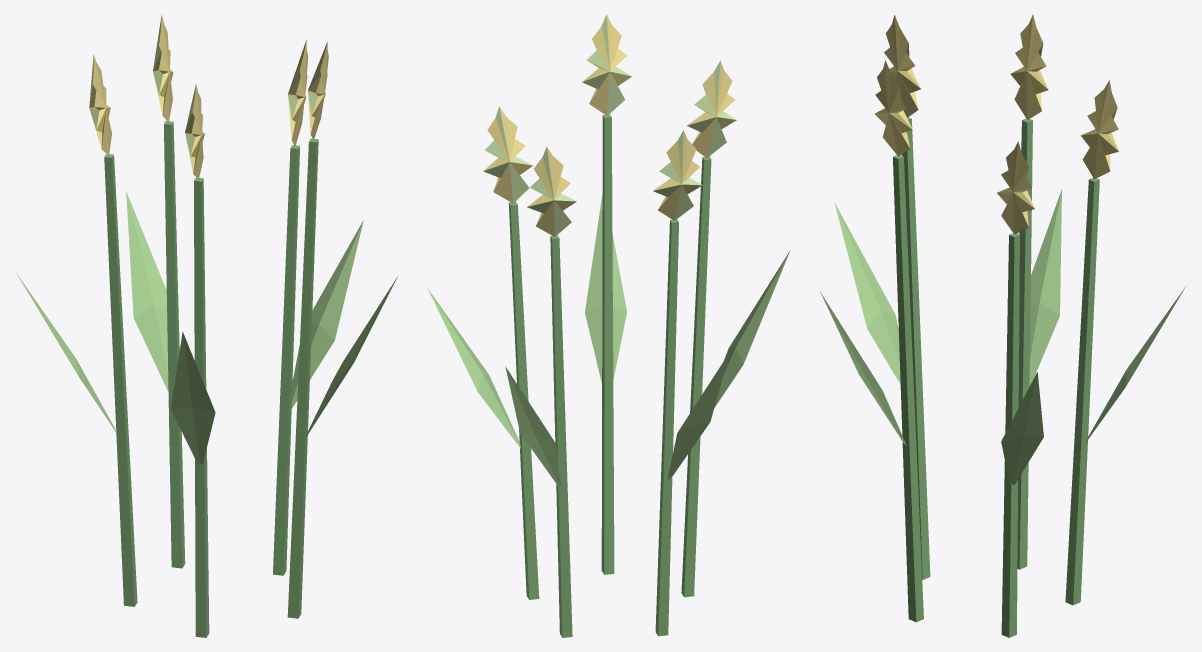
File: crop_wheat_s2.glb
The picture shows the model from 3 angles, left to right: view 1: azimuth 30°, elevation 25°; view 2: azimuth 150°, elevation 25°; view 3: azimuth 270°, elevation 25°; orthographic projection. The views are drawn at different scales.
Parts seen in each view (by area): view 1: crop_wheat_s2; view 2: crop_wheat_s2; view 3: crop_wheat_s2.
Boxes of the visible parts, left/top/right/bottom form: crop_wheat_s2: left=15, top=14, right=398, bottom=637; crop_wheat_s2: left=427, top=14, right=790, bottom=637; crop_wheat_s2: left=820, top=14, right=1185, bottom=637.
Bounding box in the file's own units: 0.4461 × 0.736 × 0.4331.
